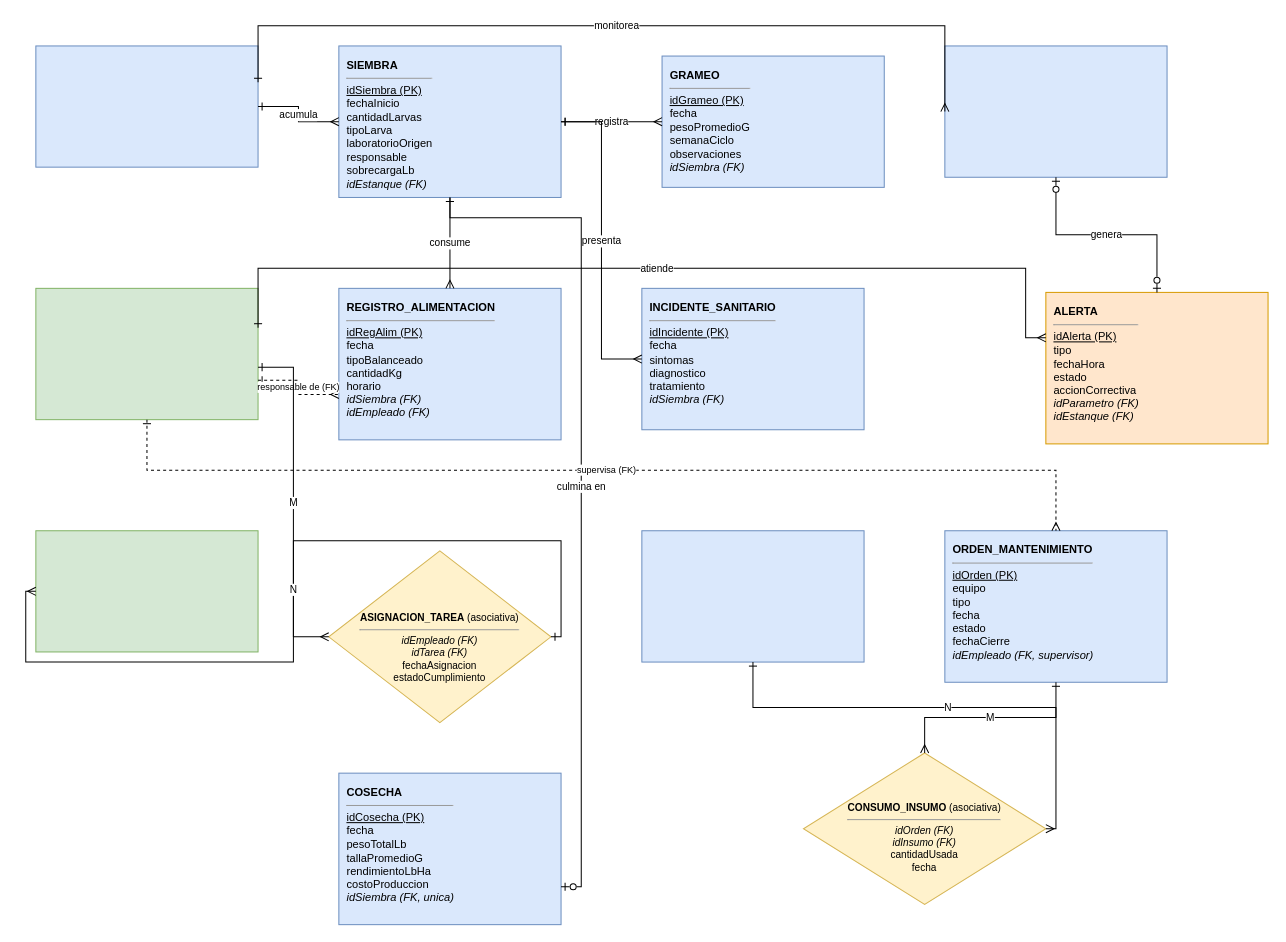
This 1286x942 diagram has some shape labels left out. Here are the shapes that lost their labels. From the top down, the centre of each, then its label:
At (146,106): "ESTANQUE idEstanque (PK) nombre superficieHa capacidadMaxLarvas estado".
At (1055,111): "PARAMETRO_AGUA idParametro (PK) fechaHora tipo valor origen idEstanque (FK)".
At (146,353): "EMPLEADO idEmpleado (PK) cedula nombre cargo rolSistema fechaIngreso".
At (146,591): "TAREA_DIARIA idTarea (PK) descripcion area fecha estadoCumplimiento".
At (752,596): "INSUMO idInsumo (PK, SKU) nombre categoria stockActual stockMinimo".
